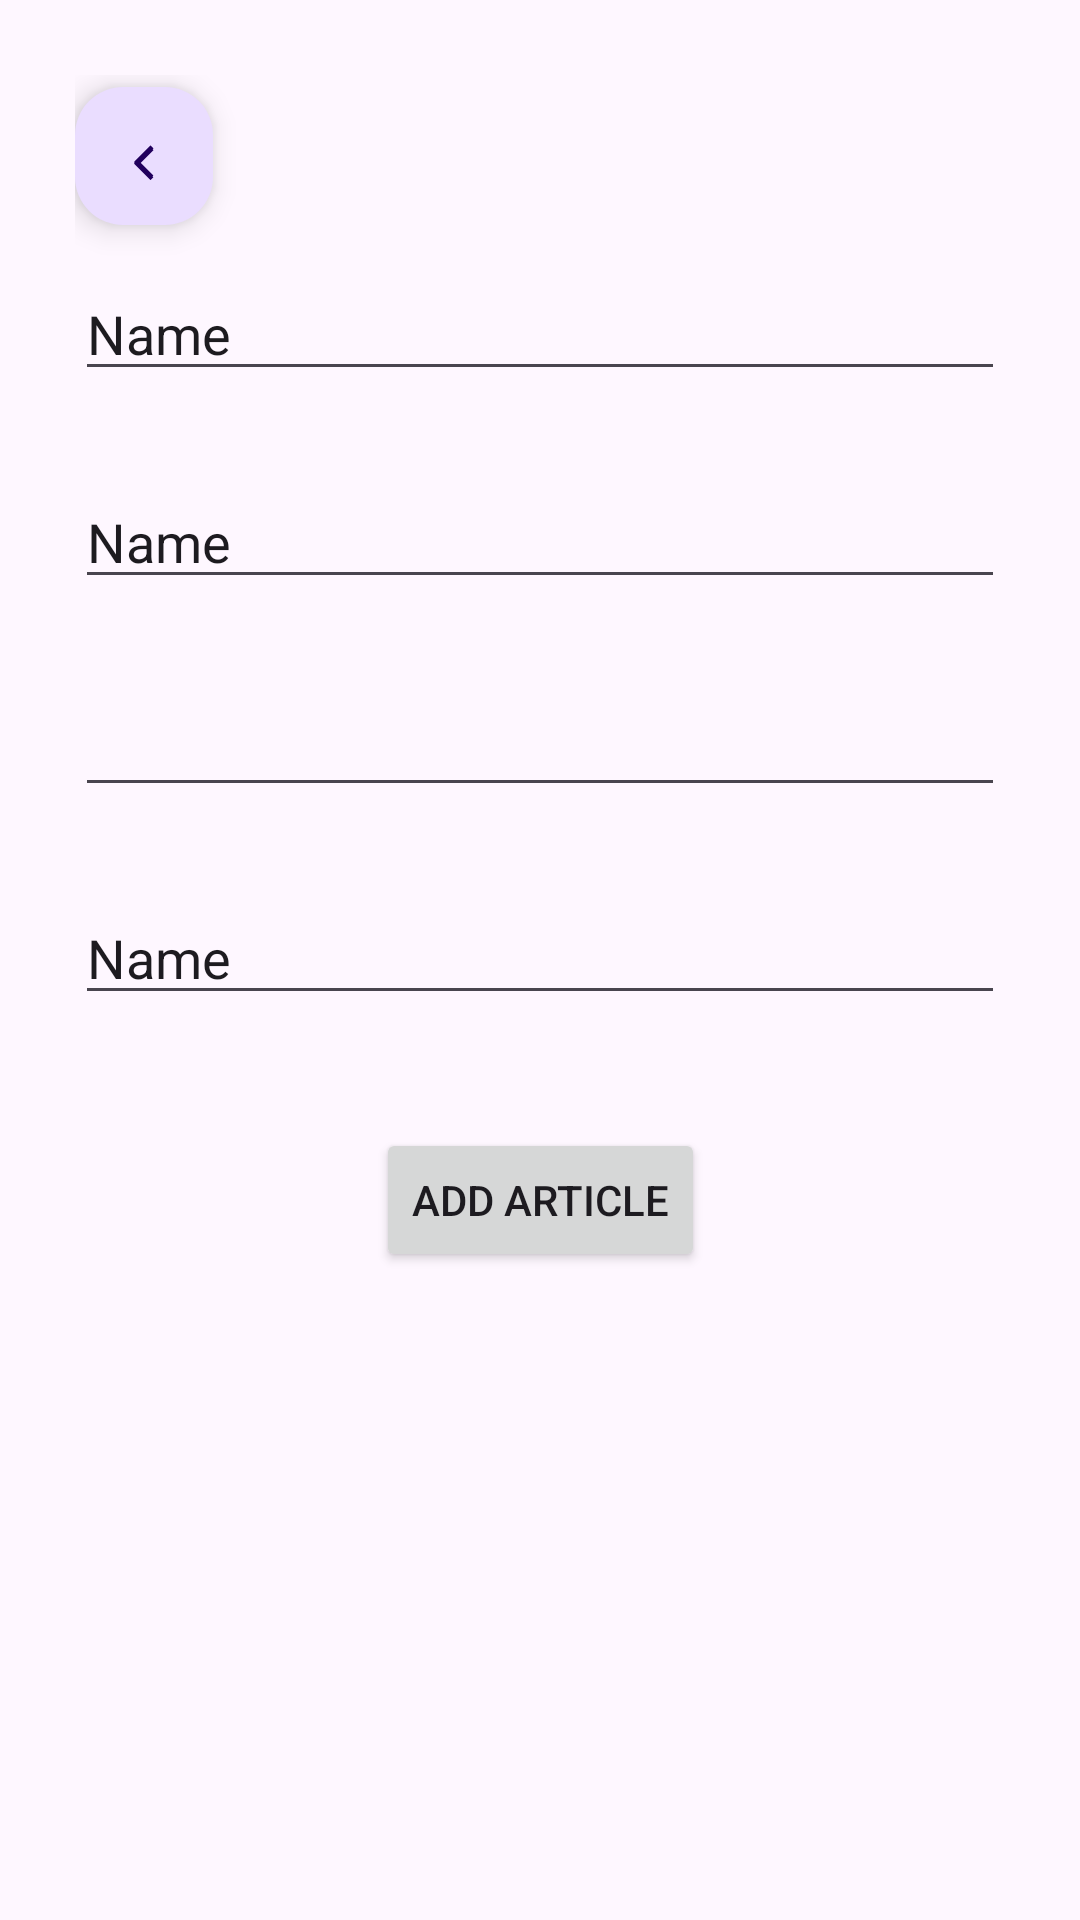

Screen size 1080 × 1920. Icon name, then its center in pixels as [x,y]:
arrow back: [144,156]
